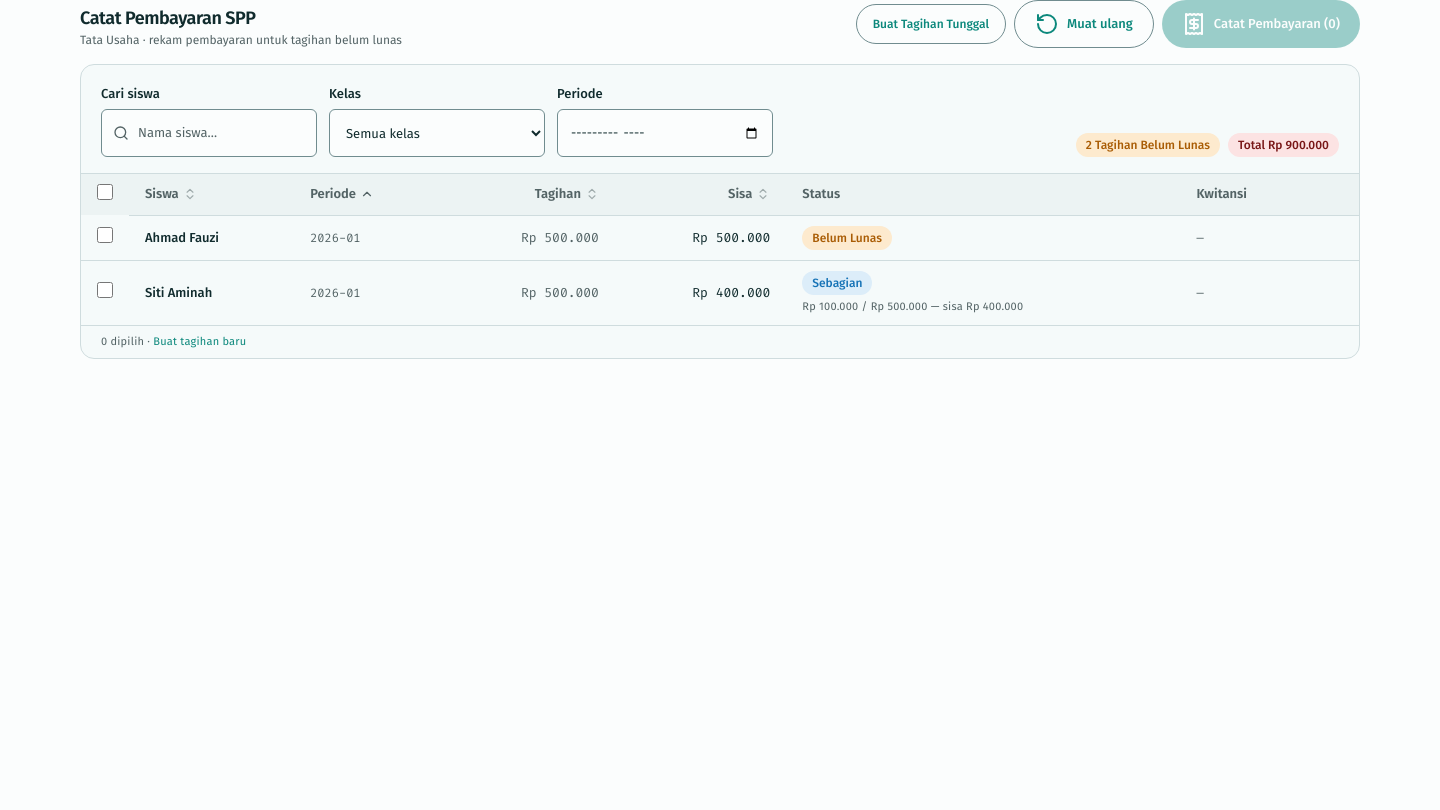
SppPaymentsPage › surfaces a per-row error when recording a payment fails
The width and height of the screenshot is (1440, 810).
expect the text "Ahmad Fauzi" is shown: met, box [129,215,294,260]
Click the checkbox named "Pilih tagihan Ahmad Fauzi": (105, 235) [97,227,113,243]
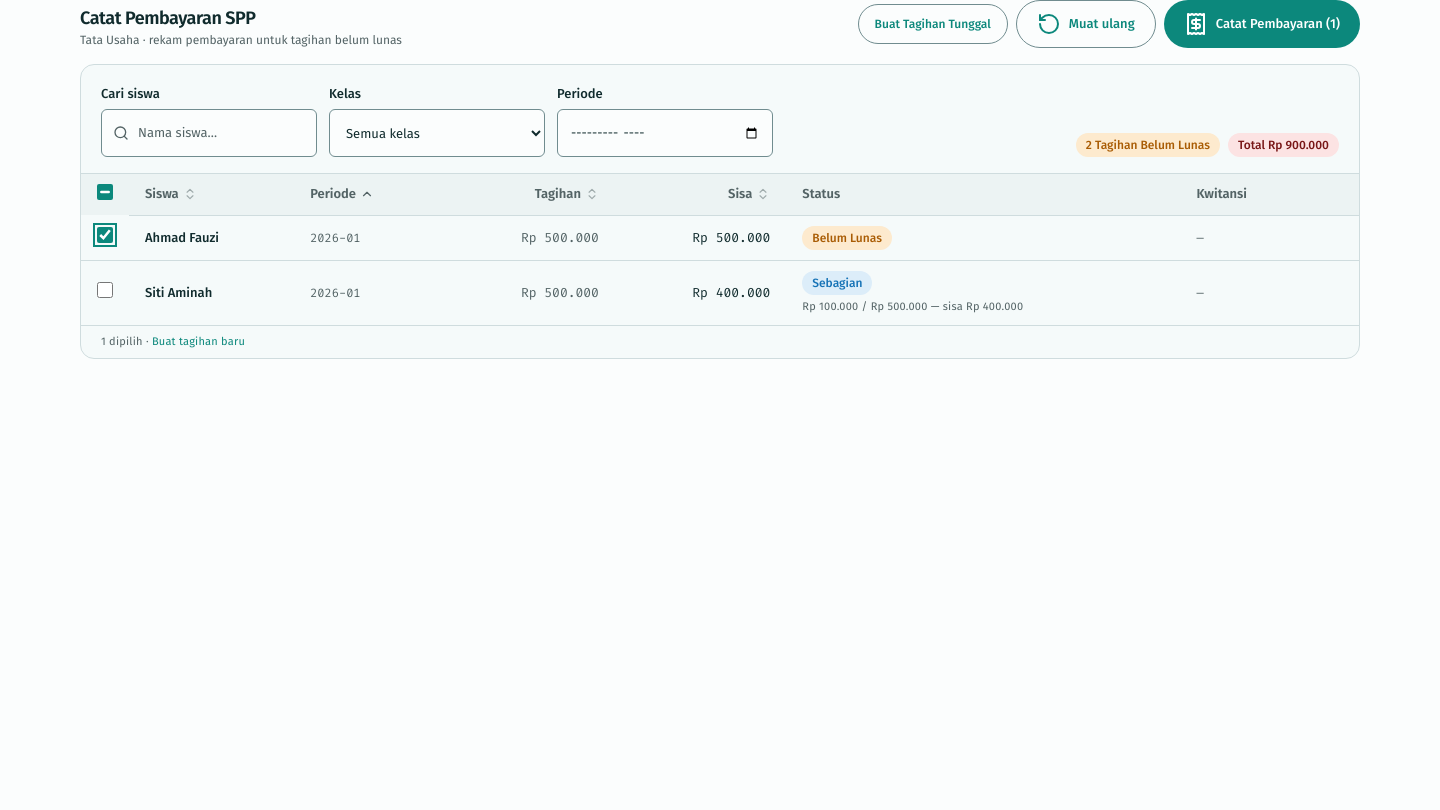
Click the button "Catat Pembayaran (1)": (1262, 24) [1164,0,1360,48]
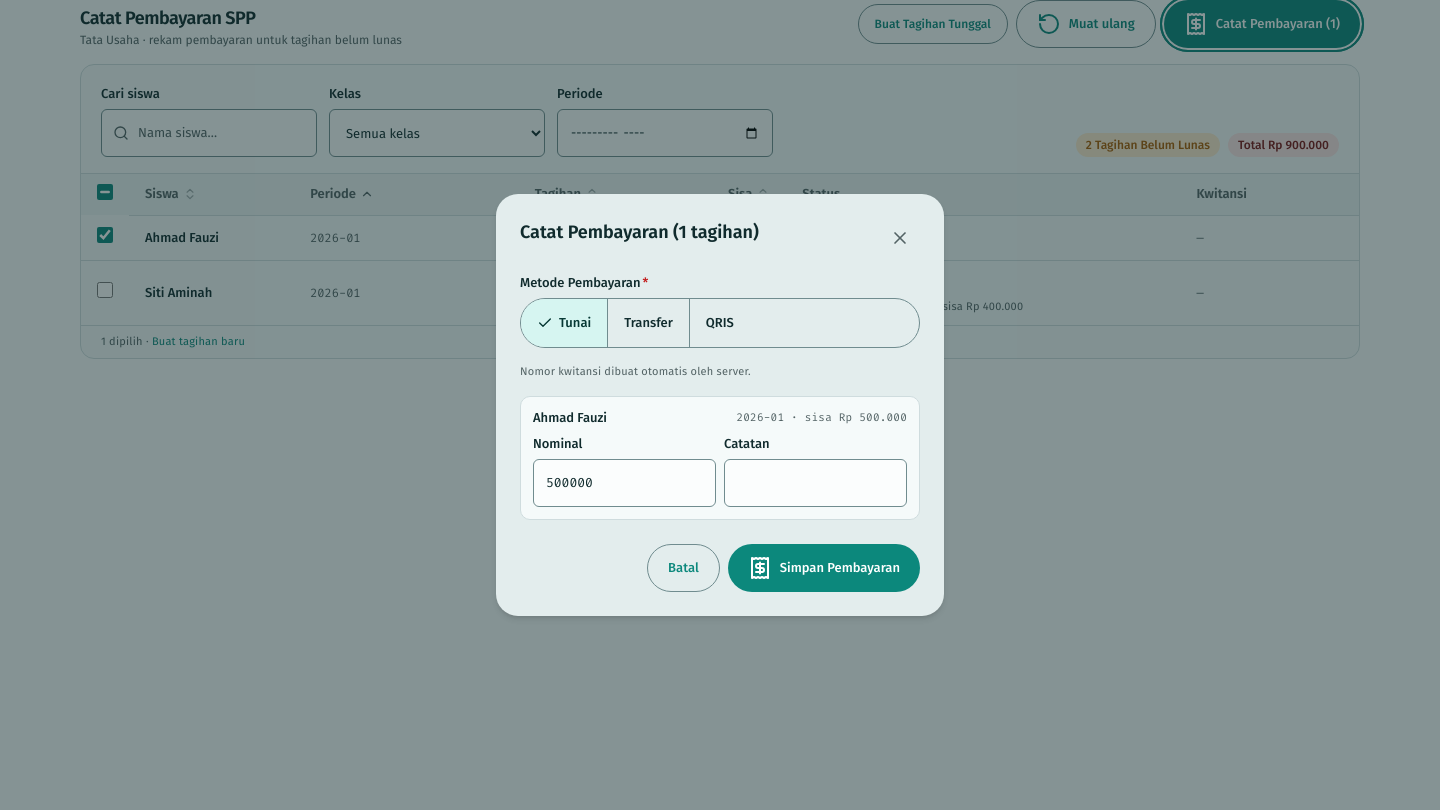
Click the button "Simpan Pembayaran": (824, 568) [728,544,920,592]
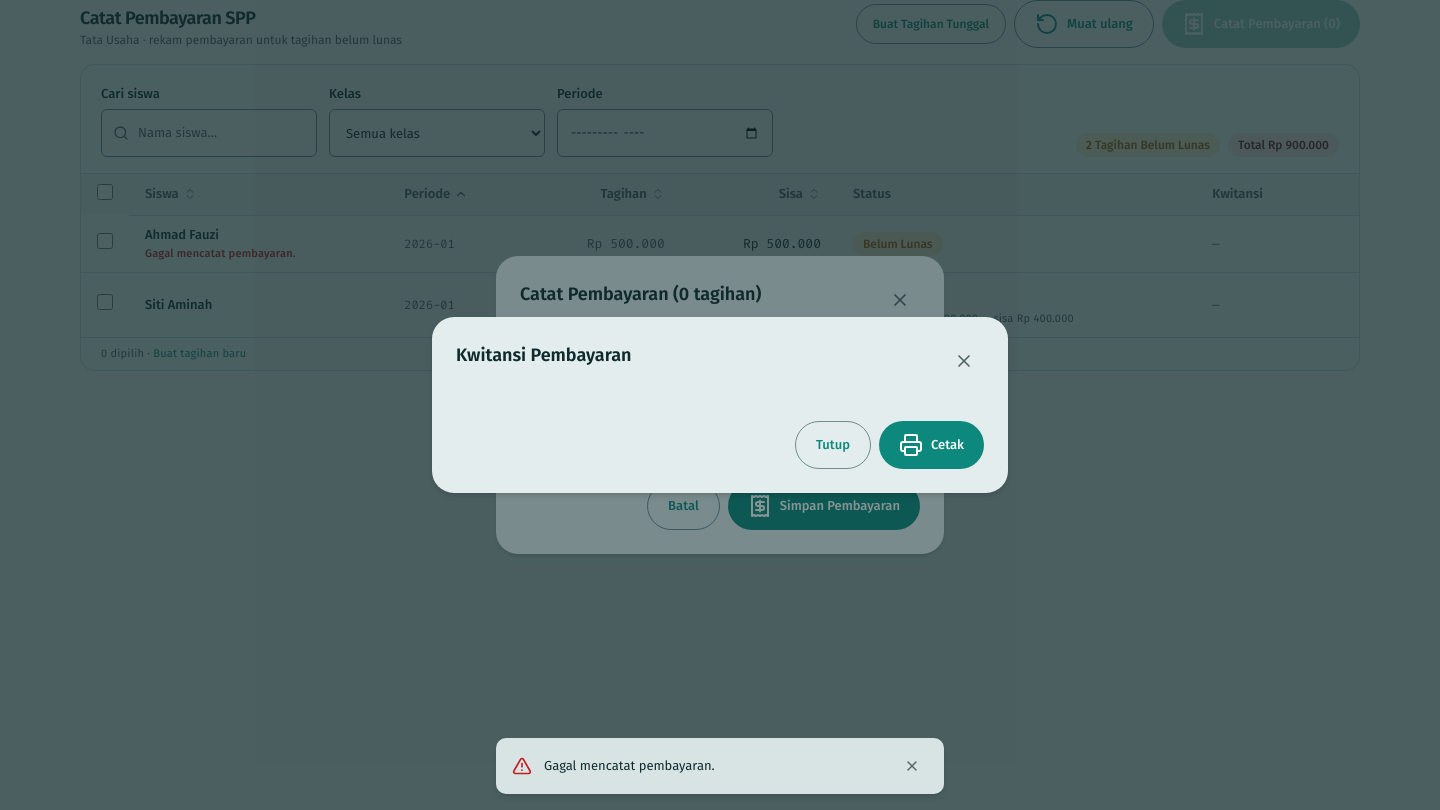
expect the text "Gagal mencatat pembayaran." below "Ahmad Fauzi" is shown: met, box [145,246,296,260]
